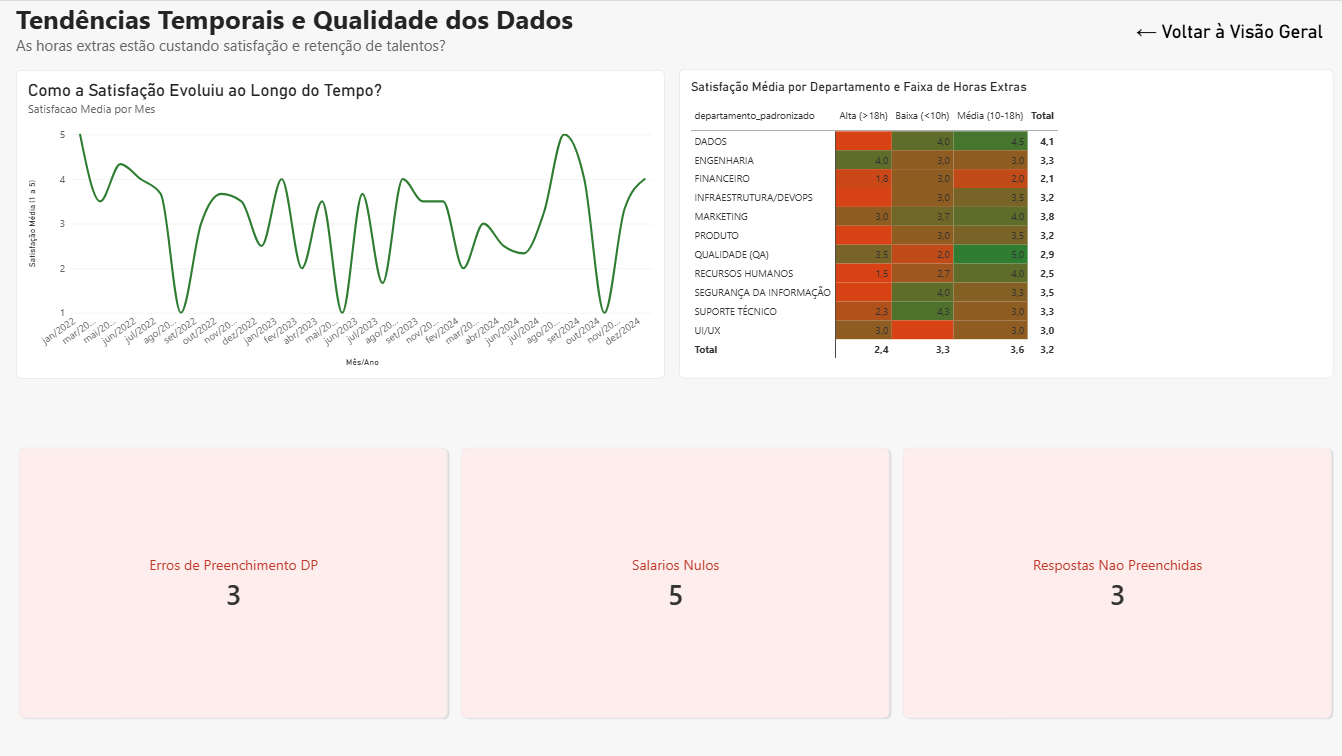

This screenshot's page, from the dashboard's own definition file:
{"tool":"powerbi","page":{"name":"Tendências e Auditoria","canvas":[1920,1080],"ordinal":1},"visuals":[{"type":"textbox","box":[23.9,0,799.4,49.2],"z":0},{"type":"textbox","box":[23.9,49.2,619.8,30.6],"z":1000},{"type":"actionButton","title":"← Voltar à Visão Geral","box":[1624,25.3,268.7,39.9],"z":2000},{"type":"lineChart","title":"Como a Satisfação Evoluiu ao Longo do Tempo?","fields":{"Category":["Calendario.Mes"],"Y":["_Medidas.Satisfacao Media"]},"box":[24.4,99.1,926.8,441],"z":3000},{"type":"pivotTable","title":"Satisfação Média por Departamento e Faixa de Horas Extras","fields":{"Columns":["rh_analytics_db tb_engajamento_clean.Faixa HE"],"Rows":["rh_analytics_db tb_funcionarios_clean.departamento_padronizado"],"Values":["_Medidas.Satisfacao Media"]},"box":[971.5,97.7,934.9,442.3],"z":4000},{"type":"cardVisual","fields":{"Data":["_Medidas.Erros de Preenchimento DP"]},"box":[24.3,634.3,620.1,394.9],"z":5000},{"type":"cardVisual","fields":{"Data":["_Medidas.Salarios Nulos"]},"box":[655.7,634.3,620.1,394.9],"z":6000},{"type":"cardVisual","fields":{"Data":["_Medidas.Respostas Nao Preenchidas"]},"box":[1286.4,634.3,620.1,394.9],"z":7000}]}

Visuals, with their boxes in screenshot pixels (x1, y1, x2, y2), scaled from the page's 1920x1080 canvas onto the 1342x756 screenshot:
textbox: (17, 0, 575, 34)
textbox: (17, 34, 450, 56)
"← Voltar à Visão Geral" actionButton: (1135, 18, 1323, 46)
"Como a Satisfação Evoluiu ao Longo do Tempo?" lineChart: (17, 69, 665, 378)
"Satisfação Média por Departamento e Faixa de Horas Extras" pivotTable: (679, 68, 1332, 378)
cardVisual - _Medidas.Erros de Preenchimento DP: (17, 444, 450, 720)
cardVisual - _Medidas.Salarios Nulos: (458, 444, 892, 720)
cardVisual - _Medidas.Respostas Nao Preenchidas: (899, 444, 1333, 720)
